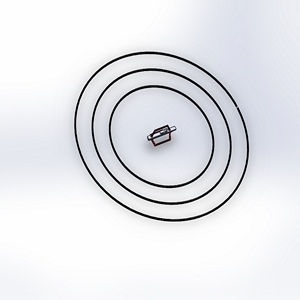circle: (64, 46, 255, 226)
submarine: (142, 120, 183, 152)
